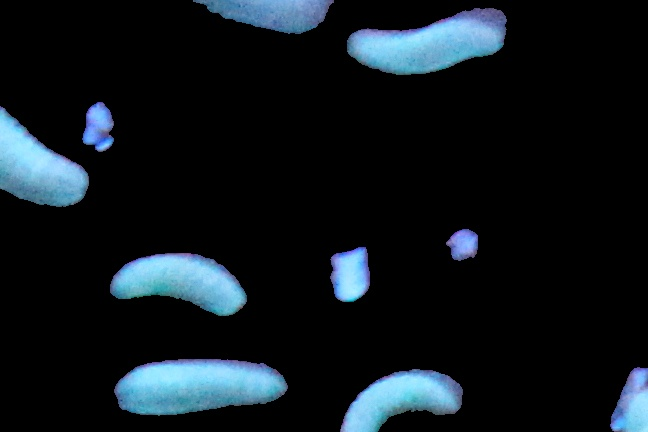larvae: (108, 351, 281, 418), (341, 11, 507, 74), (1, 93, 84, 214), (340, 363, 462, 432), (108, 255, 241, 311)
